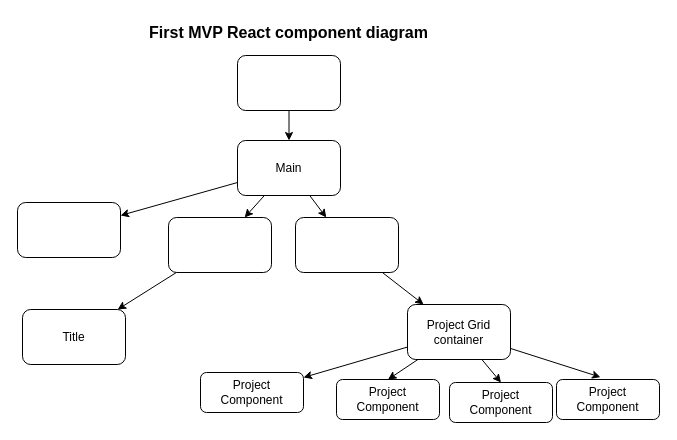
This 677x440 diagram has some shape labels left out. The shapes that lost their labels are listed below. From the top down, each one's box as (x1, y1, x2, y2) in pixels, then its label:
(236, 54, 340, 110): APP
(16, 202, 120, 258): Socila Media
(168, 216, 272, 272): Introduction section
(294, 216, 398, 272): Projects
